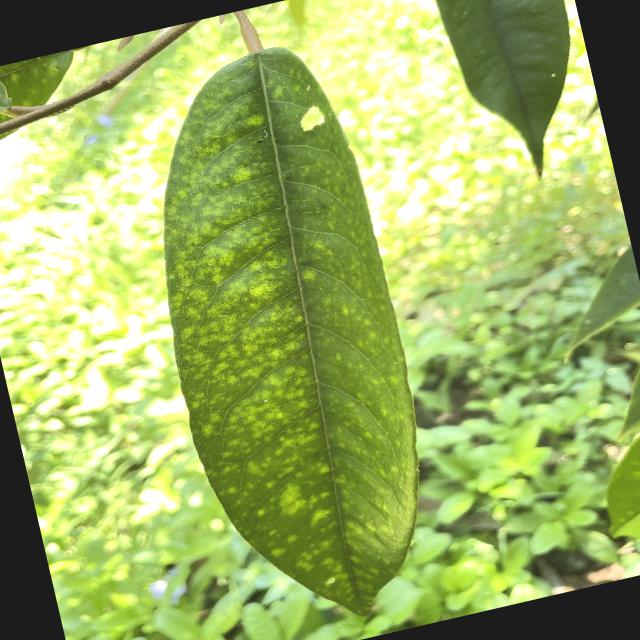Leaf Spot: (99, 28, 469, 639)
